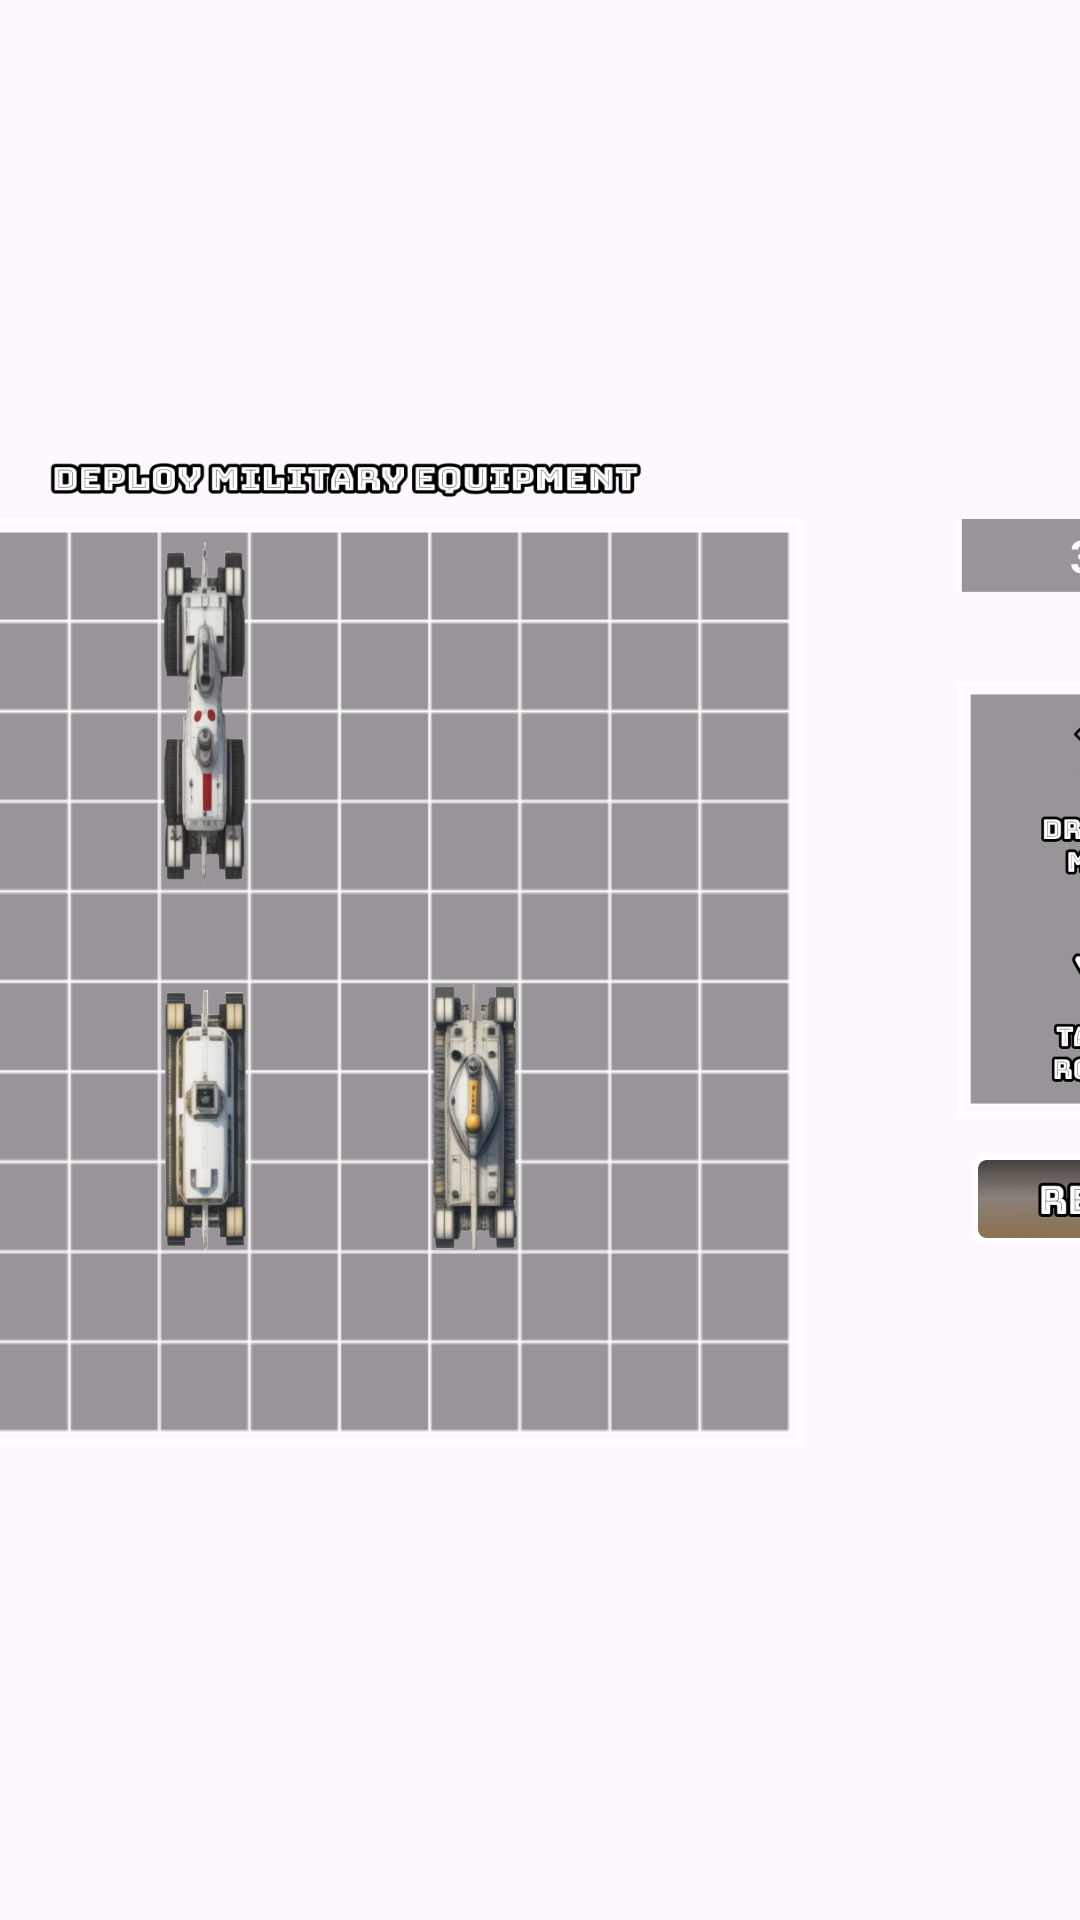

Icons on this 1080×1920 Android screen, each with the point to tap as point (x, y):
tank: point (204, 711), point (204, 1116), point (474, 1116)
